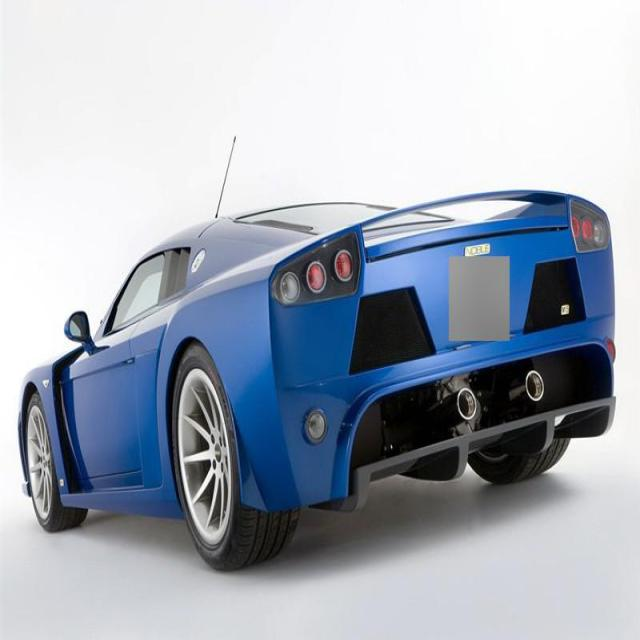back_glass: (236, 200, 450, 237)
back_left_side_light: (268, 235, 361, 307)
back_right_side_light: (567, 202, 613, 255)
front_left_side_door: (60, 248, 168, 497)
front_left_side_mirror: (61, 307, 96, 349)
rear_bumper: (224, 318, 624, 514)
wheel: (175, 356, 267, 566), (23, 397, 73, 527)
